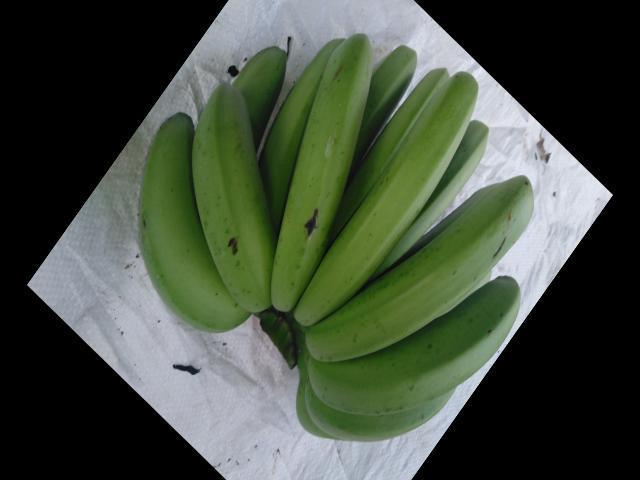unripe: (295, 63, 479, 319), (315, 169, 559, 346), (262, 17, 371, 305), (306, 268, 519, 407), (124, 102, 226, 334), (189, 87, 277, 352)
